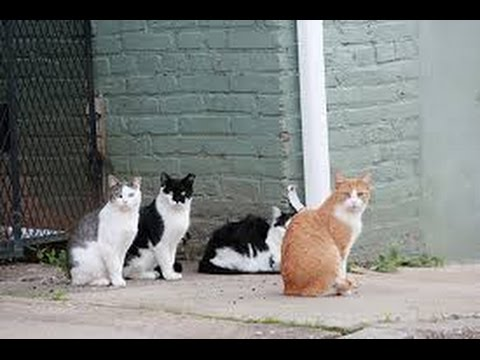cat: (276, 167, 401, 296), (55, 169, 148, 285), (203, 199, 301, 288), (133, 168, 202, 282)
